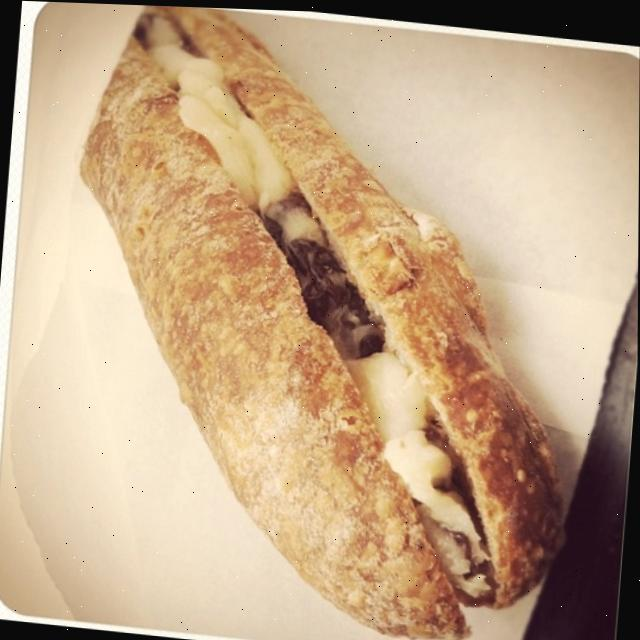面包点心: (12, 0, 621, 640)
